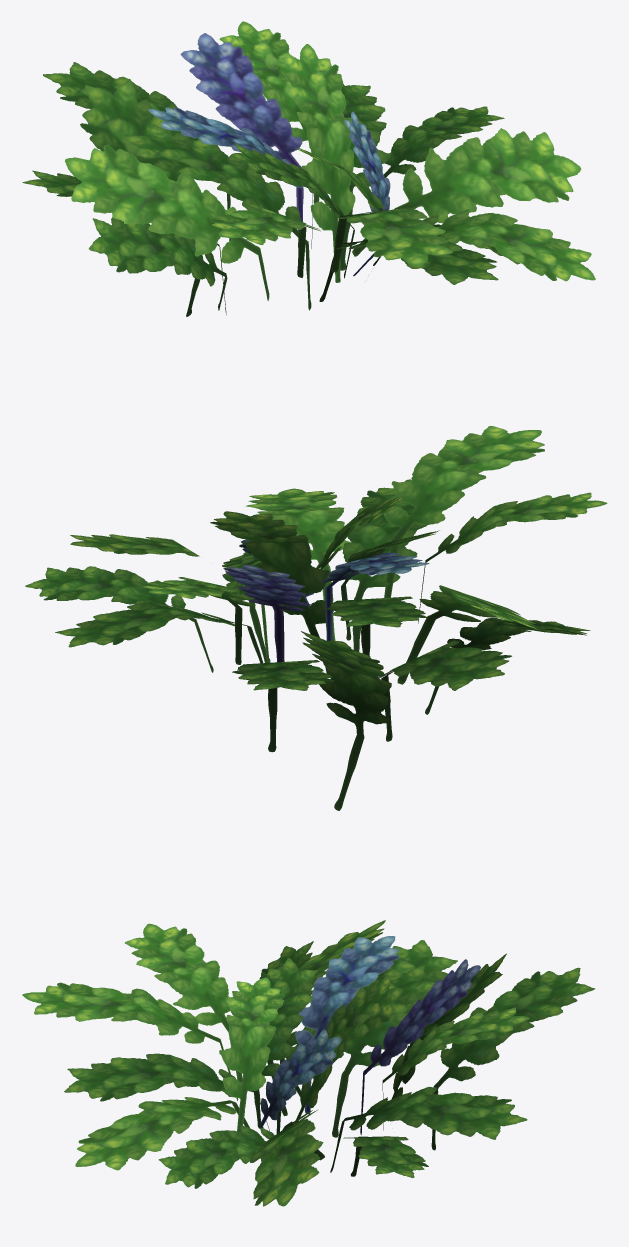
The model's file is zhucheng_mkzw.FBX.
3 views of the same model, one above another, from view 1: azimuth 30°, elevation 25°; view 2: azimuth 150°, elevation 25°; view 3: azimuth 270°, elevation 25° (orthographic). The views are drawn at different scales.
Parts seen in each view (by area): view 1: zhucheng_mkzw; view 2: zhucheng_mkzw; view 3: zhucheng_mkzw.
Part boxes in pixels (x1,y1,x2,y2): zhucheng_mkzw: (22, 21, 595, 316); zhucheng_mkzw: (25, 426, 607, 810); zhucheng_mkzw: (22, 920, 595, 1206).
Size of the model in its own units: 64.53 by 71.39 by 38.69.
